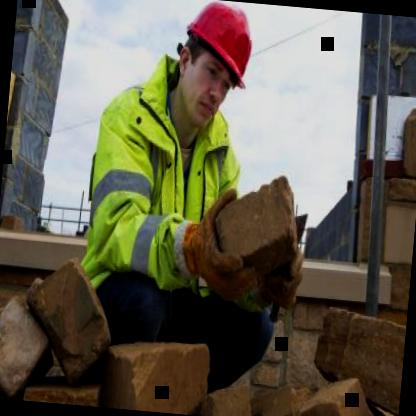helmet: (161, 0, 267, 142)
